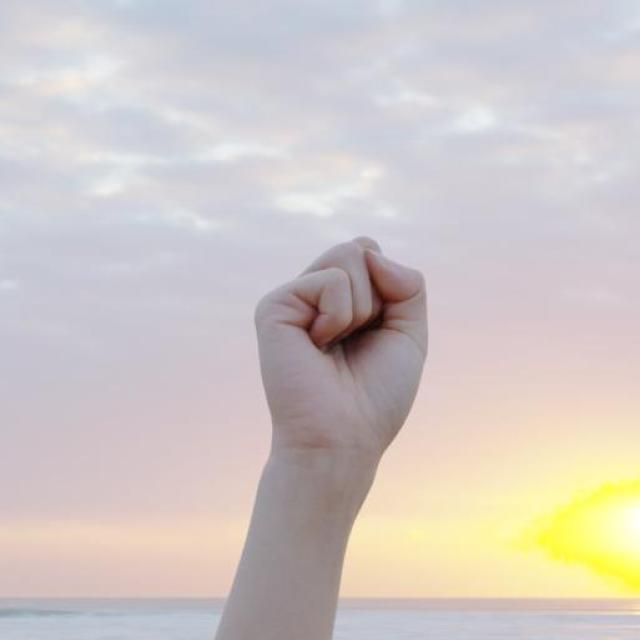S: (250, 235, 430, 459)
